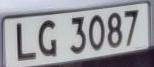0: (86, 11, 106, 55)
3: (67, 13, 89, 59)
7: (122, 6, 140, 50)
8: (105, 8, 124, 53)
G: (36, 15, 60, 63)
L: (12, 19, 38, 65)
